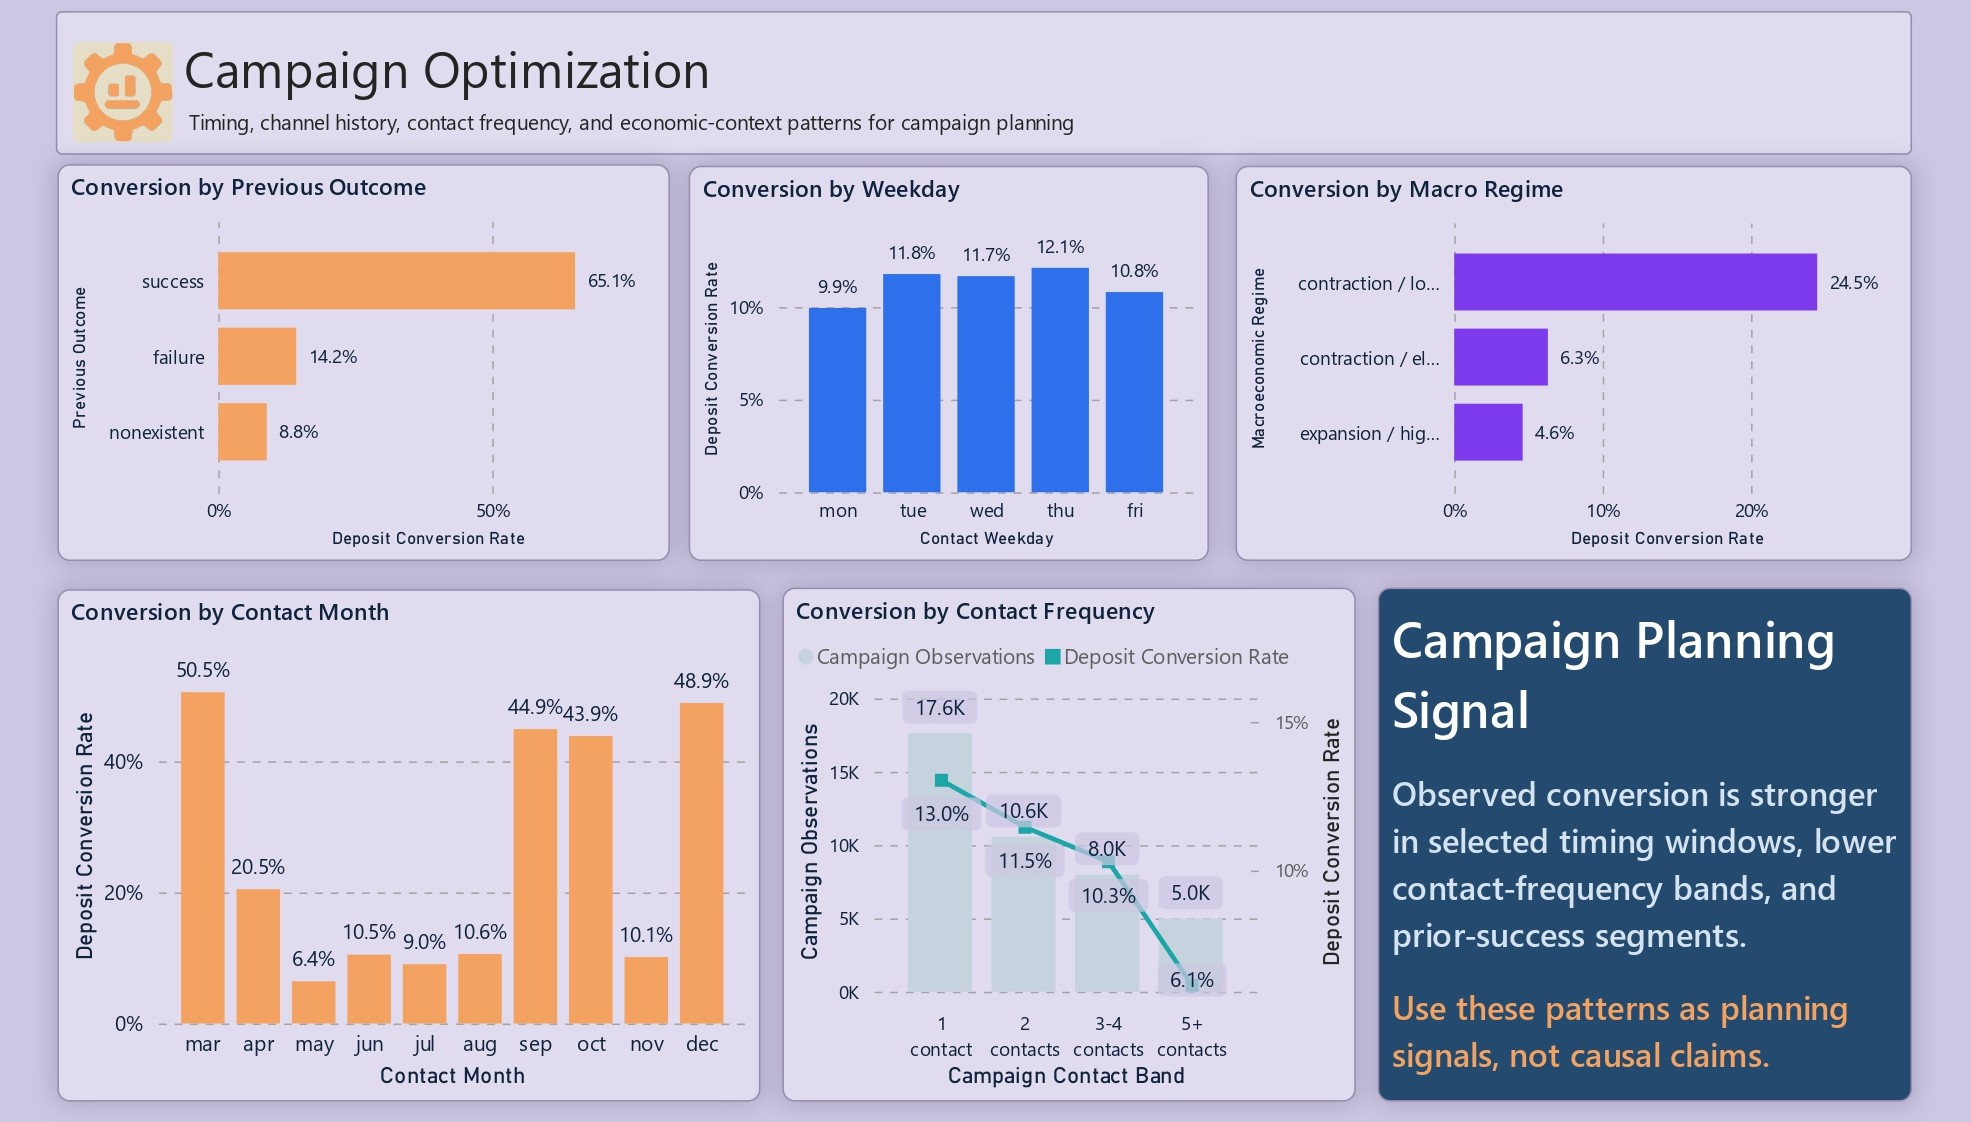

The dashboard page shown, as its layout file describes it:
{"tool":"powerbi","page":{"name":"Campaign Optimization","canvas":[1280,720],"ordinal":2},"visuals":[{"type":"shape","box":[45,8.3,1188.3,91.7],"z":0},{"type":"clusteredColumnChart","title":"Conversion by Contact Month","fields":{"Category":["dim_contact.contact_month"],"Y":["_Measures.Deposit Conversion Rate"]},"box":[46,378,450,328],"z":1000},{"type":"clusteredColumnChart","title":"Conversion by Weekday","fields":{"Category":["dim_contact.contact_weekday"],"Y":["_Measures.Deposit Conversion Rate"]},"box":[450,106.7,333.3,253.3],"z":2000},{"type":"textbox","box":[122.3,16,425.7,55.7],"z":3000},{"type":"textbox","box":[125.2,64.6,627.1,30],"z":4000},{"type":"image","box":[56.2,27.7,63.8,63.8],"z":5000},{"type":"clusteredBarChart","title":"Conversion by Previous Outcome","fields":{"Category":["fact_campaign_contact.previous_outcome"],"Y":["_Measures.Deposit Conversion Rate"]},"box":[46,106,392,254],"z":6000},{"type":"clusteredBarChart","title":"Conversion by Macro Regime","fields":{"Category":["dim_economic_context.macroeconomic_regime"],"Y":["_Measures.Deposit Conversion Rate"]},"box":[800,106.7,433.3,253.3],"z":7000},{"type":"lineClusteredColumnComboChart","title":"Conversion by Contact Frequency","fields":{"Category":["dim_contact.campaign_contact_band"],"Y":["_Measures.Campaign Observations"],"Y2":["_Measures.Deposit Conversion Rate"]},"box":[510,377.1,367.1,328.6],"z":8000},{"type":"textbox","box":[891.4,377.1,341.4,328.6],"z":9000}]}

Visuals, with their boxes in screenshot pixels (x1, y1, x2, y2), scaled from the page's 1280x720 canvas onto the 1971x1122 screenshot:
shape: <box>69,13,1899,156</box>
"Conversion by Contact Month" clusteredColumnChart: <box>71,589,764,1100</box>
"Conversion by Weekday" clusteredColumnChart: <box>693,166,1206,561</box>
textbox: <box>188,25,844,112</box>
textbox: <box>193,101,1158,147</box>
image: <box>87,43,185,143</box>
"Conversion by Previous Outcome" clusteredBarChart: <box>71,165,674,561</box>
"Conversion by Macro Regime" clusteredBarChart: <box>1232,166,1899,561</box>
"Conversion by Contact Frequency" lineClusteredColumnComboChart: <box>785,588,1351,1100</box>
textbox: <box>1373,588,1898,1100</box>
